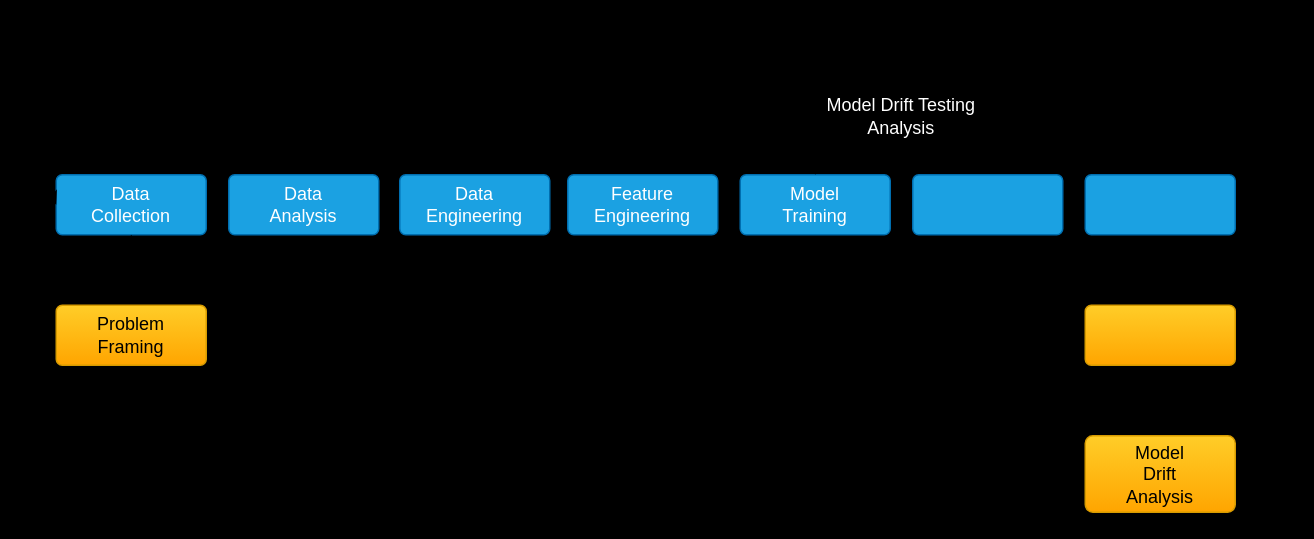
This 1314x539 diagram has some shape labels left out. The shapes that lost their labels are listed below. From the top down, each one's box as (x1, y1, x2, y2) in pixels, then its label:
(911, 173, 1063, 235): Model Evaluation
(1084, 173, 1235, 235): Serving
(1084, 304, 1235, 365): Model Monitoring
